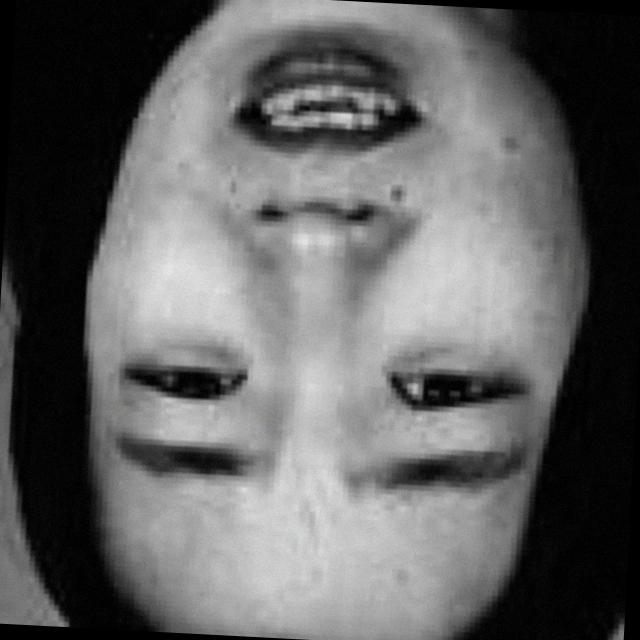fear: (88, 0, 576, 627)
